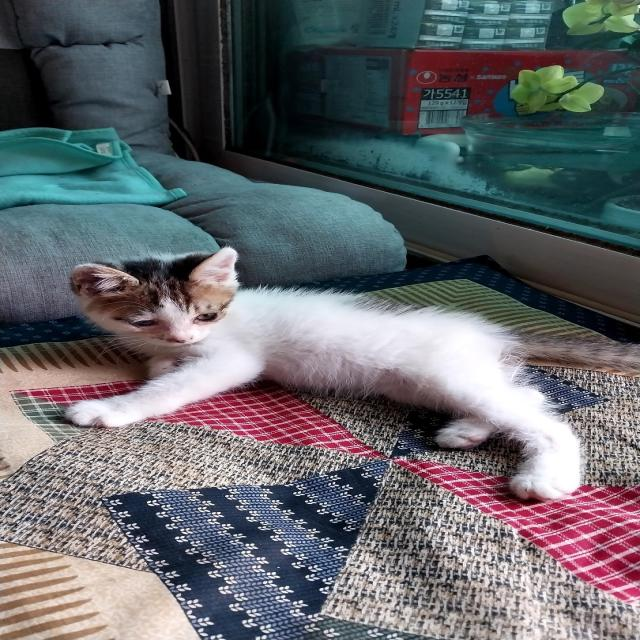cat: (64, 246, 588, 503)
